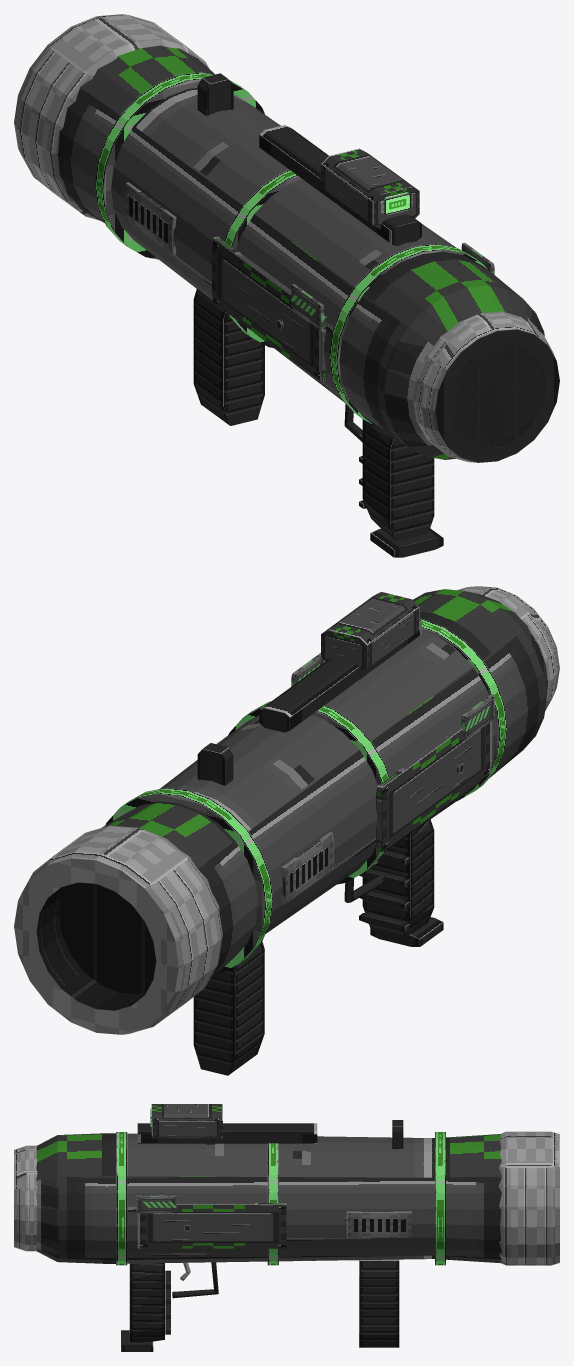
Rendered from rocket.glb.
The picture shows the model from 3 angles, top to bottom: view 1: azimuth 30°, elevation 25°; view 2: azimuth 150°, elevation 25°; view 3: azimuth 270°, elevation 25°; orthographic projection. The views are drawn at different scales.
Parts seen in each view (by area): view 1: Detailed weapon shell.008; view 2: Detailed weapon shell.008; view 3: Detailed weapon shell.008.
Part boxes in pixels (x1,y1,x2,y2): Detailed weapon shell.008: (14, 14, 559, 557); Detailed weapon shell.008: (14, 586, 559, 1075); Detailed weapon shell.008: (14, 1104, 559, 1351).
Size of what is drawn, in the model's own units: 0.229 by 0.4205 by 0.882.
2 materials, 2 textured.
